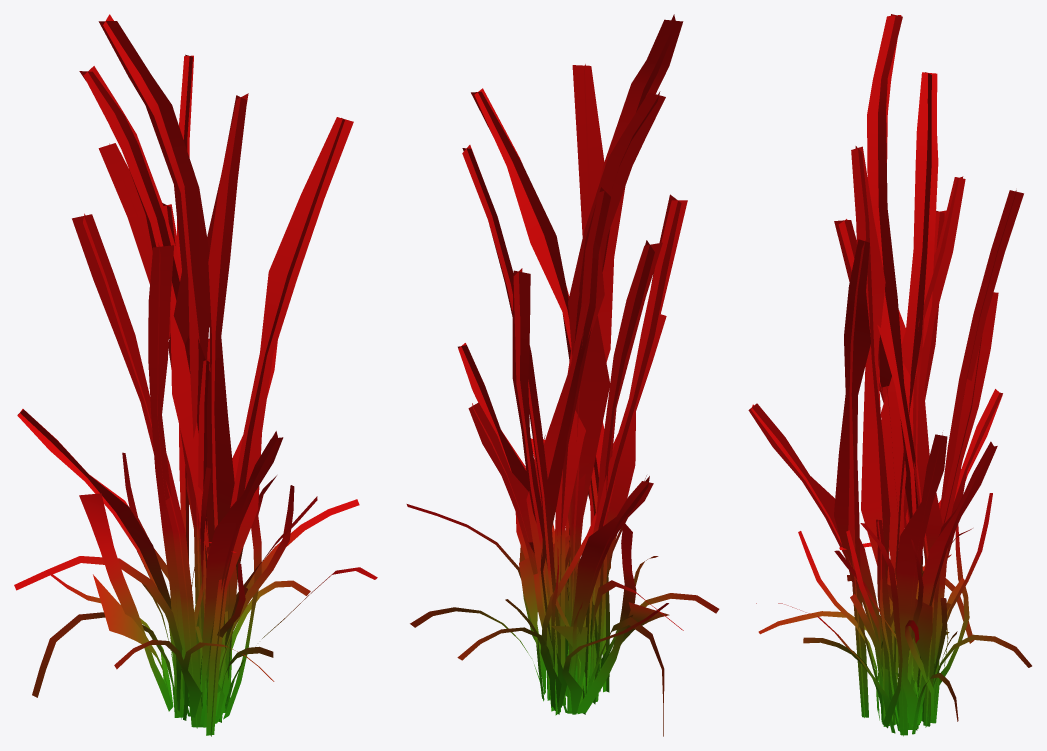
The model's file is Var5_LOD1.fbx.
3 views of the same model, side by side, from view 1: azimuth 30°, elevation 25°; view 2: azimuth 150°, elevation 25°; view 3: azimuth 270°, elevation 25° (orthographic). The views are drawn at different scales.
Visible parts, largest first — view 1: _5770_Var5_LOD1; view 2: _5770_Var5_LOD1; view 3: _5770_Var5_LOD1.
Part boxes in pixels (x1,y1,x2,y2): _5770_Var5_LOD1: (14,14,377,736); _5770_Var5_LOD1: (406,14,719,736); _5770_Var5_LOD1: (748,14,1031,736).
Bounding box in the file's own units: 42.82 × 94.8 × 36.62.
